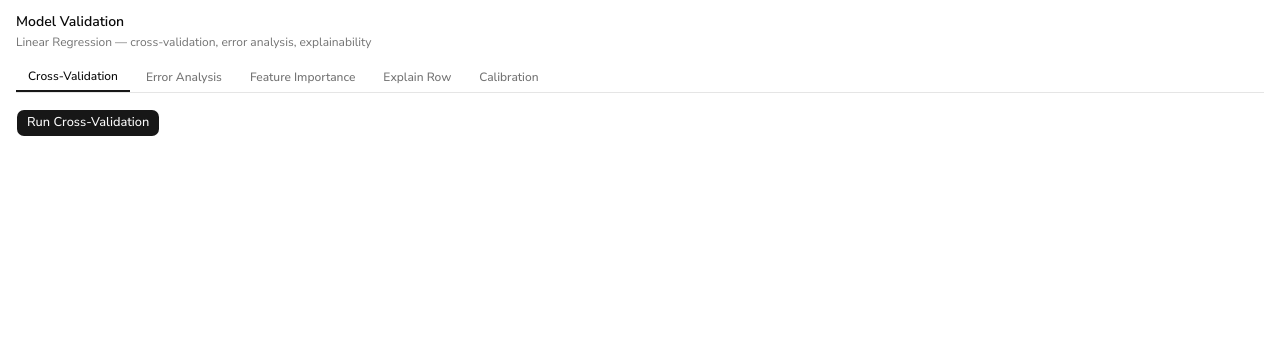
ValidationPanel — feature importance tab › shows importance type label
Click the tab "Feature Importance".
click(303, 77)  # box [238,62,367,92]
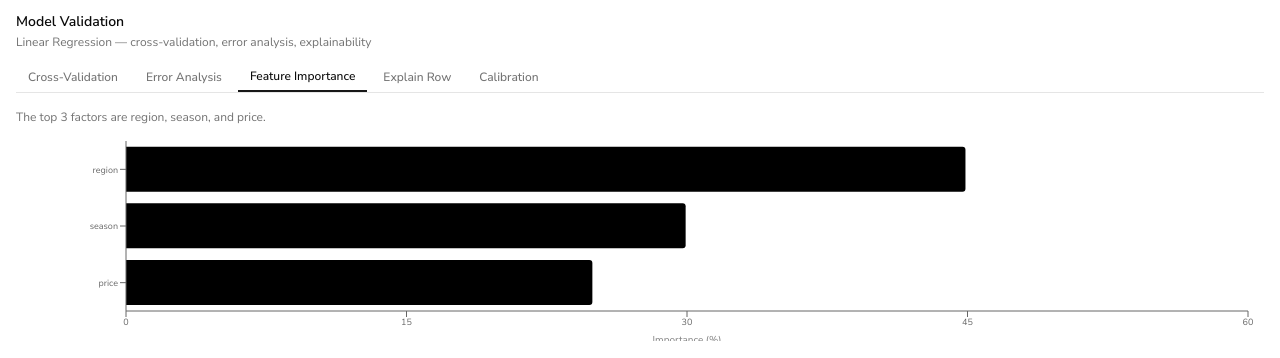
Now the text "The top 3 factors are region, season, and price." is shown, box [16,109,266,125]
